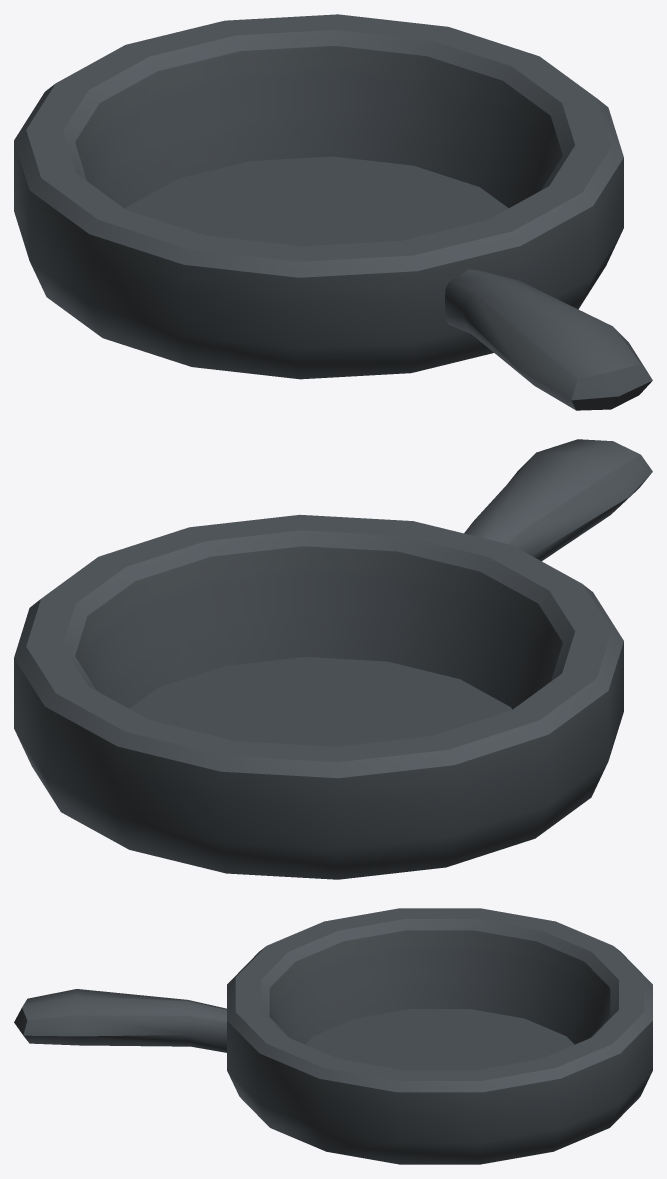
The model's file is kkr.pan_b.glb.
3 views of the same model, one above another, from view 1: azimuth 30°, elevation 25°; view 2: azimuth 150°, elevation 25°; view 3: azimuth 270°, elevation 25° (orthographic). The views are drawn at different scales.
Visible parts, largest first — view 1: pan_B; view 2: pan_B; view 3: pan_B.
Boxes of the visible parts, <box> form: pan_B: <box>14,14,652,410</box>; pan_B: <box>14,439,652,879</box>; pan_B: <box>14,908,652,1164</box>.
Bounding box in the file's own units: 0.2757 × 0.0689 × 0.4135.
Materials: 1 (1 with a texture image).
